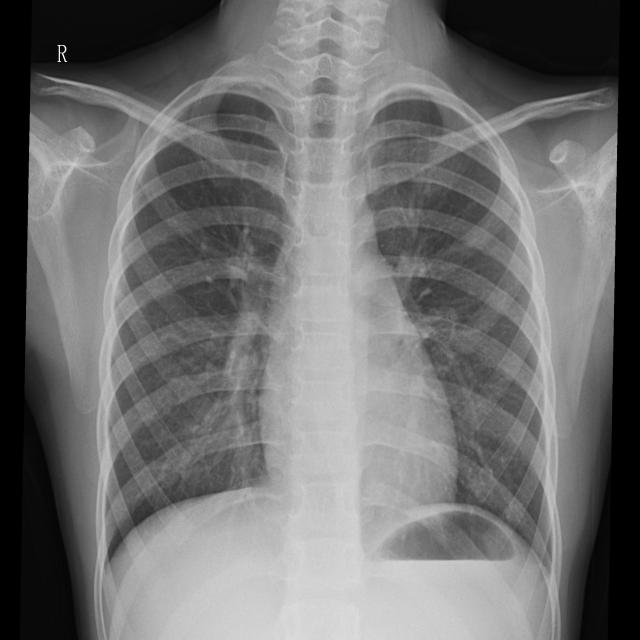no-pneumonia: (362, 91, 554, 570), (106, 82, 295, 556)
